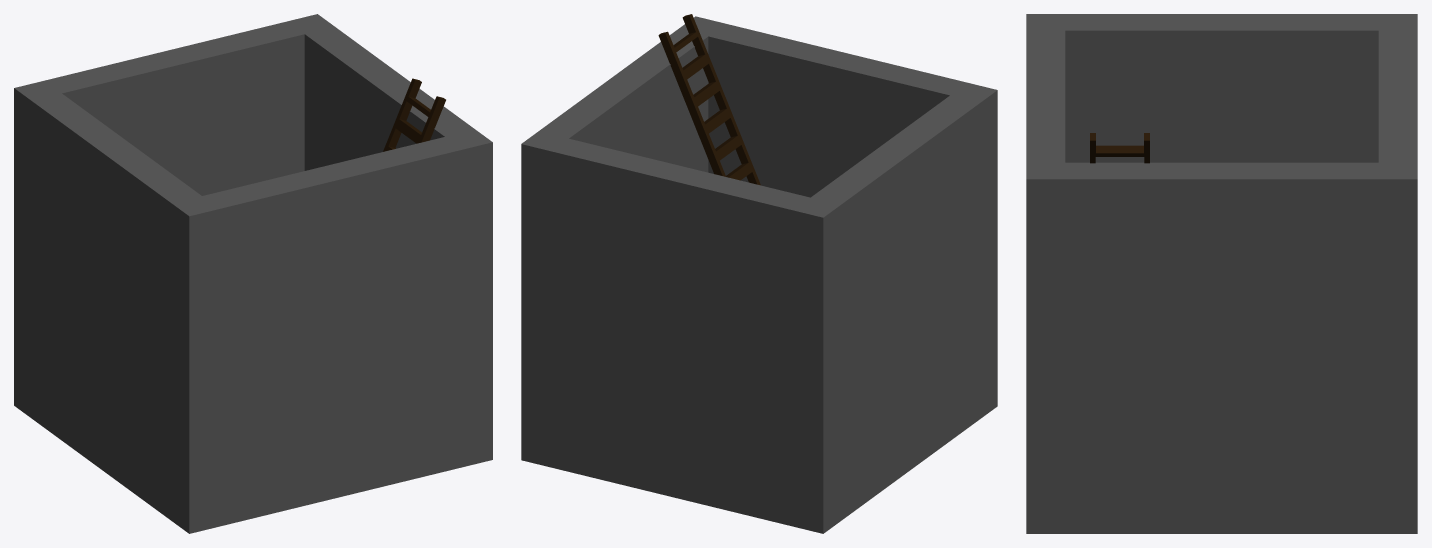
File: Quarry2.obj
3 renders of one model, left to right at view 1: azimuth 30°, elevation 25°; view 2: azimuth 150°, elevation 25°; view 3: azimuth 270°, elevation 25°, orthographic. The views are drawn at different scales.
Parts seen in each view (by area): view 1: Tilebase119, Ladder; view 2: Tilebase119, Ladder; view 3: Tilebase119, Ladder.
Boxes of the visible parts, left/top/right/bottom form: Tilebase119: left=14, top=14, right=492, bottom=533; Ladder: left=383, top=78, right=445, bottom=151; Tilebase119: left=521, top=16, right=997, bottom=533; Ladder: left=658, top=14, right=760, bottom=185; Tilebase119: left=1026, top=14, right=1417, bottom=533; Ladder: left=1090, top=133, right=1149, bottom=163.
Size of the model in its own units: 10 by 10.92 by 10.
